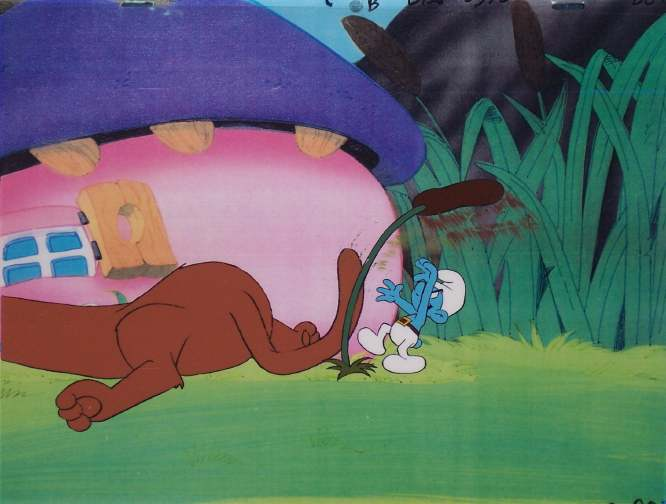smurf: (357, 257, 469, 375)
